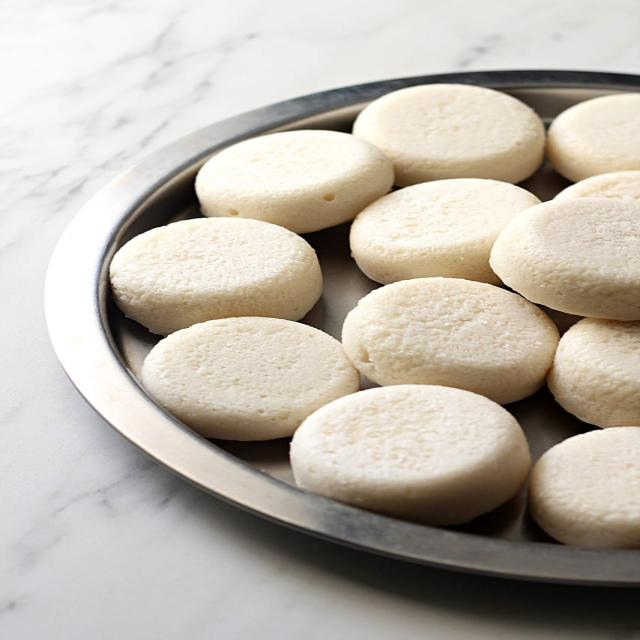Idly: (265, 378, 553, 525), (100, 202, 326, 334), (140, 310, 358, 445), (355, 272, 569, 405), (178, 126, 398, 236), (340, 168, 532, 288), (350, 84, 564, 185), (497, 182, 640, 326), (530, 420, 640, 545), (547, 302, 640, 424), (547, 84, 640, 184)
